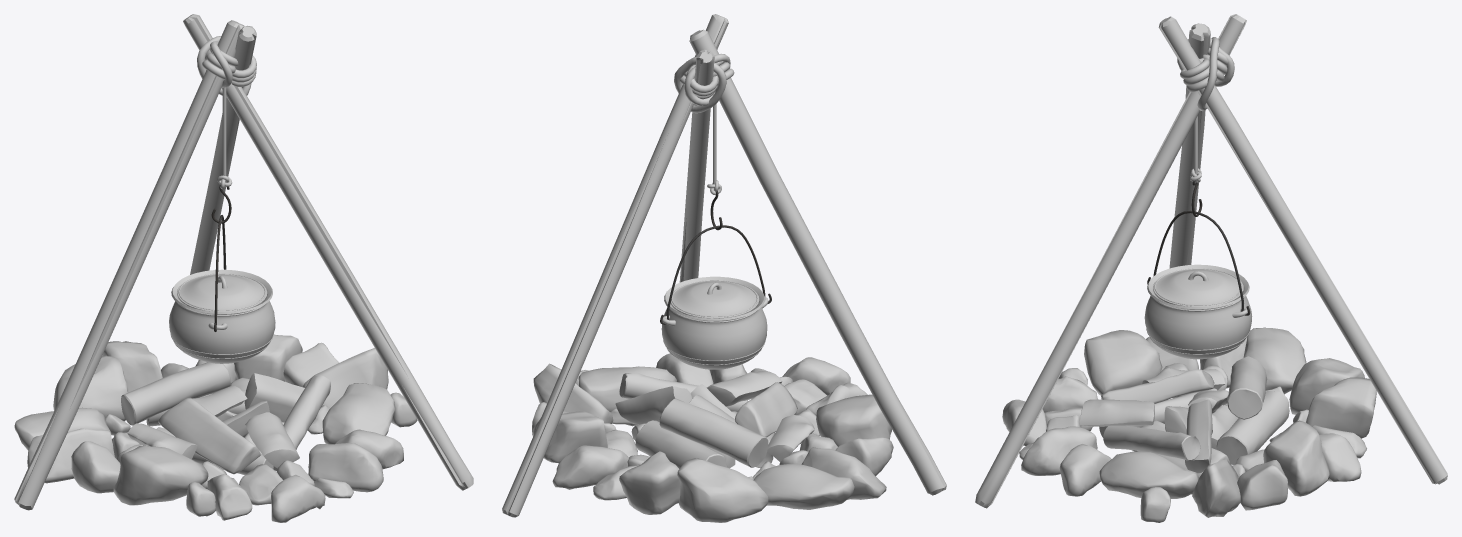
The model's file is Fire_place_01fbx.fbx.
3 views of the same model, side by side, from view 1: azimuth 30°, elevation 25°; view 2: azimuth 150°, elevation 25°; view 3: azimuth 270°, elevation 25° (orthographic).
Parts seen in each view (by area): view 1: KB3D_AOE_PropFirePit_C_Main; view 2: KB3D_AOE_PropFirePit_C_Main; view 3: KB3D_AOE_PropFirePit_C_Main.
Part boxes in pixels (left/top/right/bottom): KB3D_AOE_PropFirePit_C_Main: left=14, top=14, right=473, bottom=522; KB3D_AOE_PropFirePit_C_Main: left=502, top=14, right=946, bottom=522; KB3D_AOE_PropFirePit_C_Main: left=975, top=14, right=1447, bottom=522.
Size of the model in its own units: 143 by 149 by 148.
